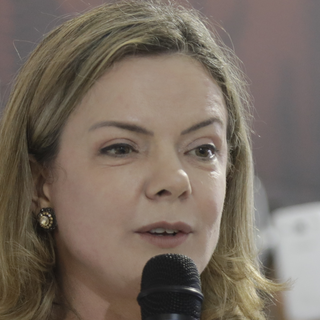eye: (94, 135, 142, 162), (179, 139, 224, 163)
